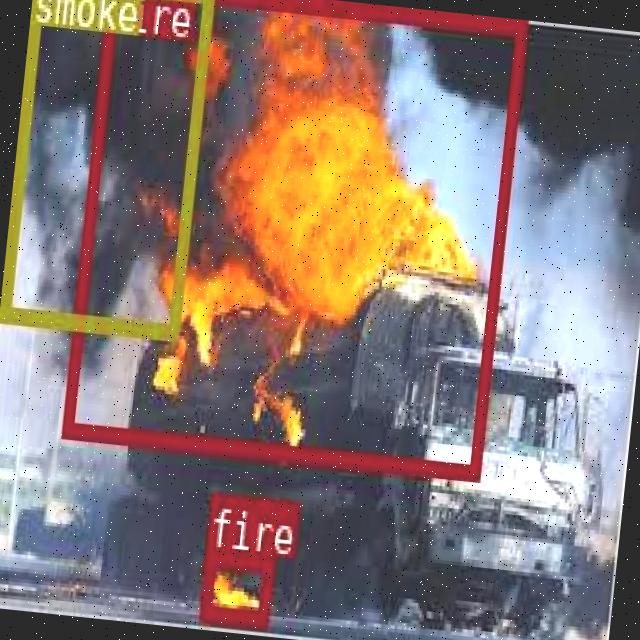fire: (59, 0, 526, 479), (197, 546, 272, 625)
smoke: (0, 0, 213, 338)
